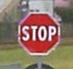stop: (17, 9, 60, 56)
